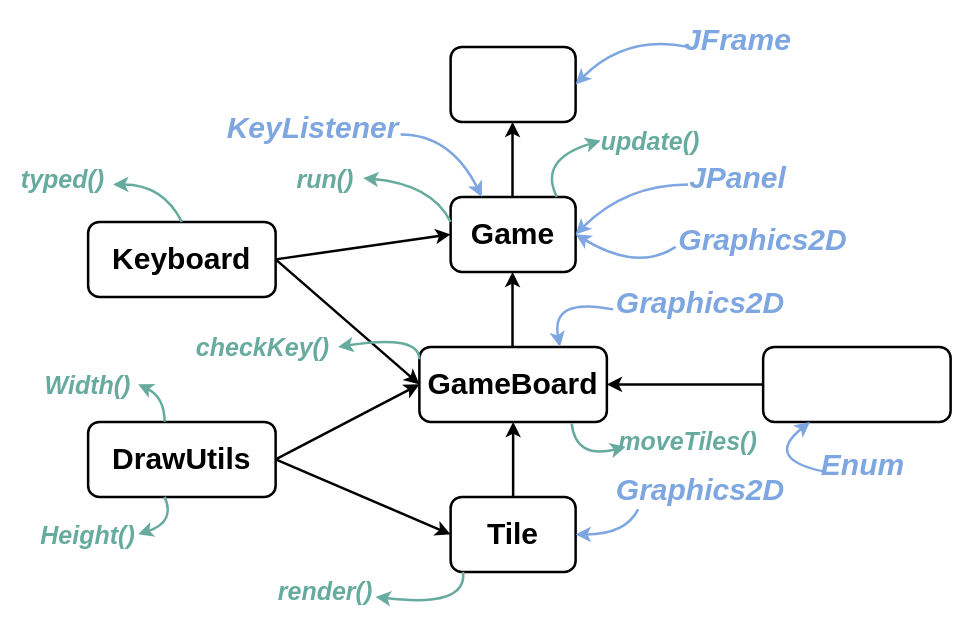
This 973x630 diagram has some shape labels left out. The shapes that lost their labels are listed below. From the top down, each one's centre as x and y in pixels, then its label:
At [512,83]: "Main".
At [856,383]: "Direction".
